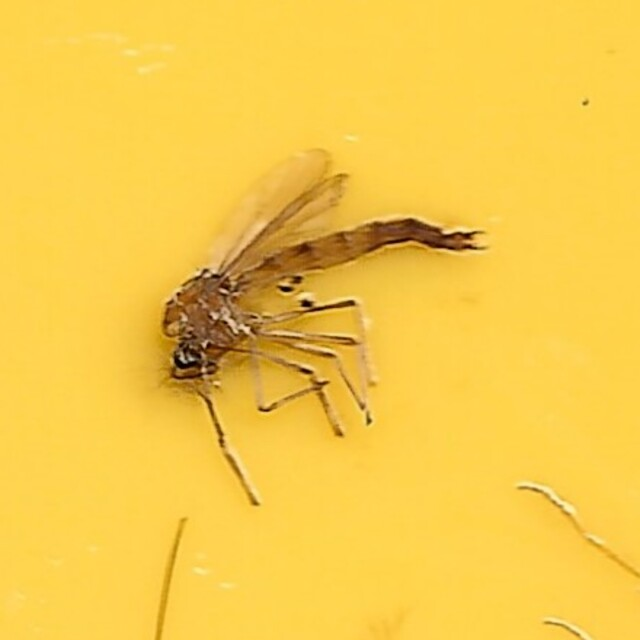Nematocera: (145, 133, 495, 507)
